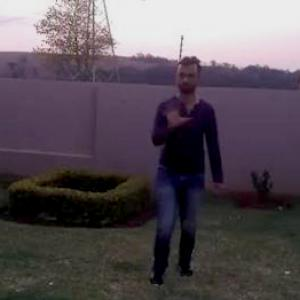follow_hand: (160, 95, 195, 127)
